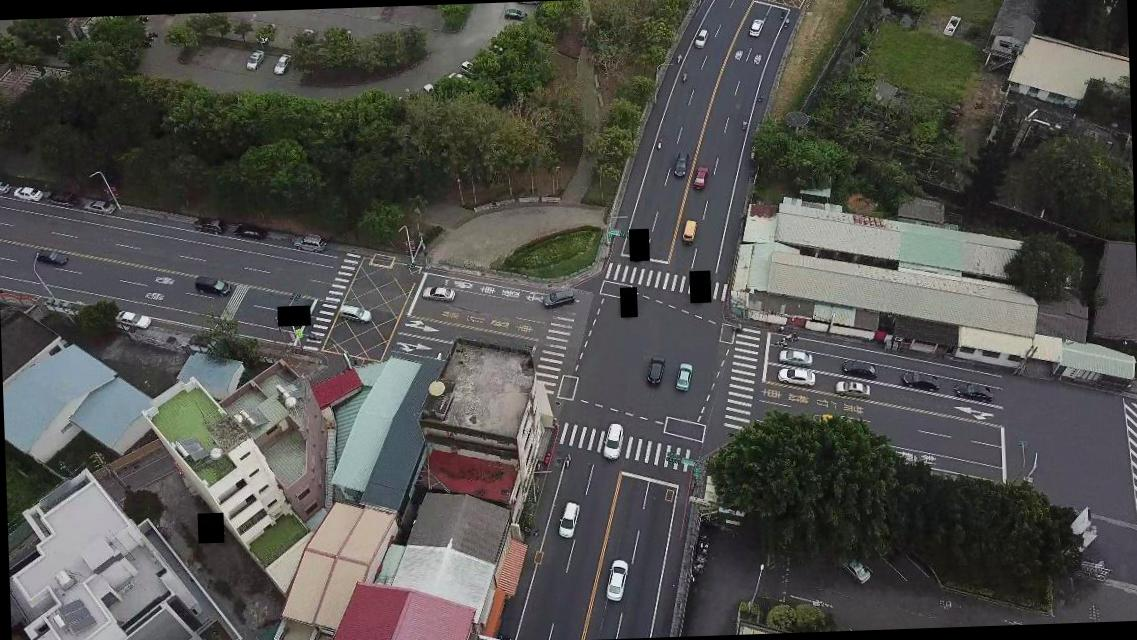vehicle: (602, 559, 628, 603), (951, 378, 994, 404), (899, 369, 940, 394), (840, 552, 872, 584), (776, 366, 817, 388), (193, 274, 232, 297), (601, 423, 624, 461), (556, 502, 580, 538), (112, 308, 151, 330), (832, 378, 871, 398), (840, 358, 878, 378), (778, 347, 814, 368), (290, 232, 326, 252), (540, 288, 574, 308), (337, 303, 371, 323), (191, 214, 225, 234), (33, 248, 69, 266), (646, 354, 666, 386), (82, 196, 114, 216), (233, 224, 266, 242), (420, 285, 454, 302), (46, 189, 78, 206), (674, 362, 692, 392), (10, 186, 42, 202), (270, 52, 290, 76), (671, 150, 688, 178), (692, 164, 709, 191), (244, 48, 263, 72), (458, 58, 480, 78), (254, 22, 274, 43), (681, 218, 696, 244), (292, 27, 312, 46), (692, 26, 709, 48), (504, 7, 528, 22), (748, 18, 764, 39)
